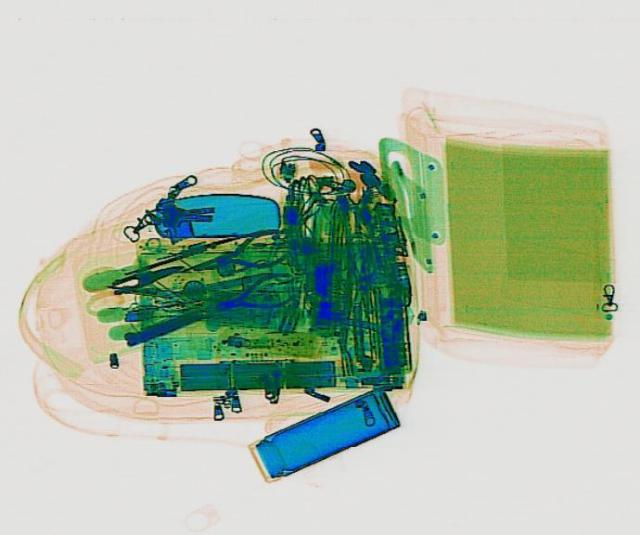Pliers: (190, 224, 294, 281), (205, 267, 302, 324)
